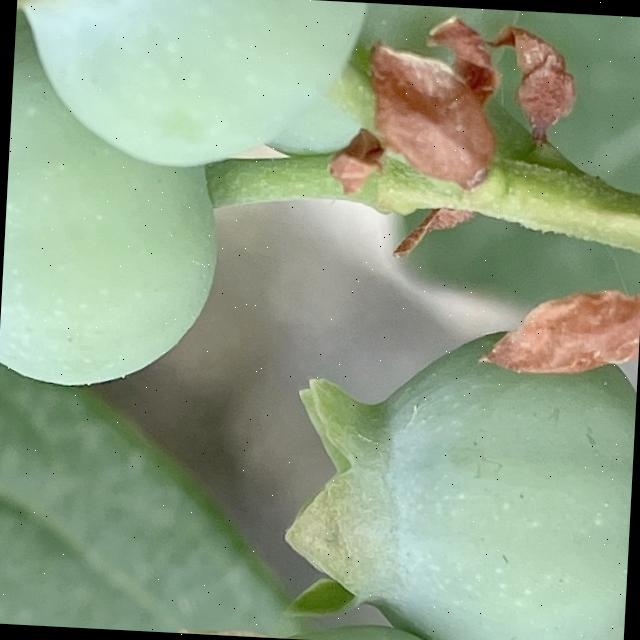Blueberries: (274, 326, 639, 640), (0, 28, 222, 420), (8, 0, 373, 180)
